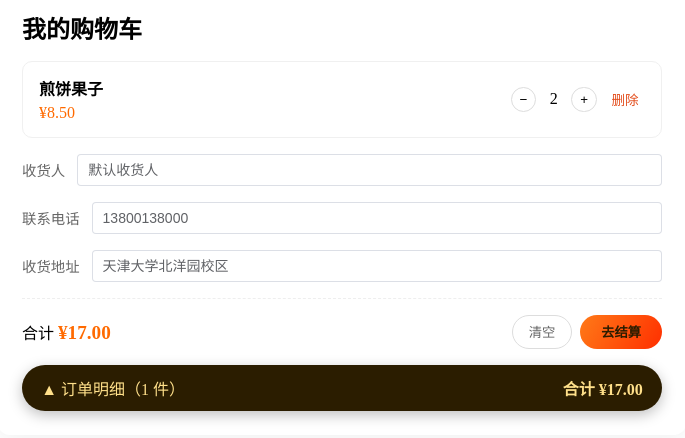
Scenario: 购物车页 › 下单请求未完成时禁用结算按钮
The width and height of the screenshot is (685, 438).
What coordinates should you click on to do the following:
click the button with test id "cart-checkout"
I would click on:
 (621, 332)
Its box is [580,315,662,349].
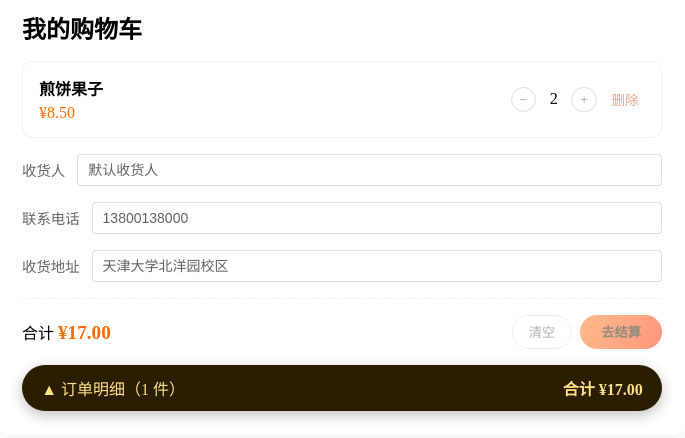
Result: the button with test id "cart-checkout" is disabled at [580,315,662,349]
